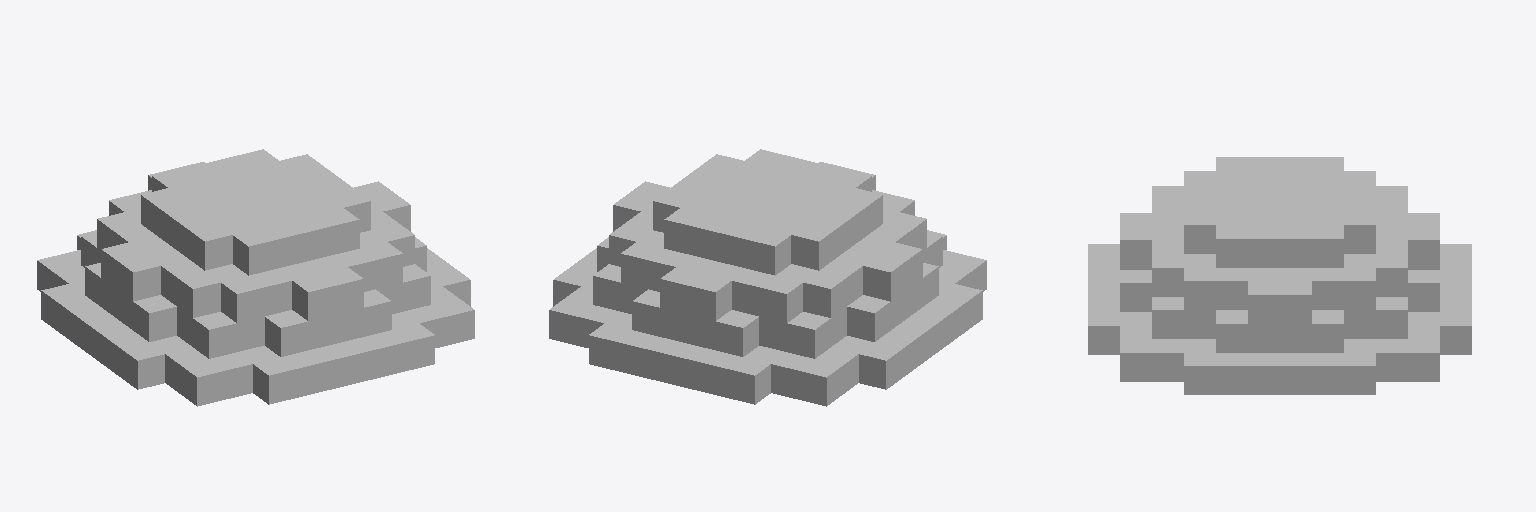
The model's file is pressureSingleOrange.obj.
3 views of the same model, side by side, from view 1: azimuth 30°, elevation 25°; view 2: azimuth 150°, elevation 25°; view 3: azimuth 270°, elevation 25° (orthographic).
Parts seen in each view (by area): view 1: object 1; view 2: object 1; view 3: object 1.
Part boxes in pixels (x1,y1,x2,y2): object 1: (37,149,474,406); object 1: (549,149,986,406); object 1: (1088,157,1471,394).
Bounding box in the file's own units: 1.2 × 0.4 × 1.2.